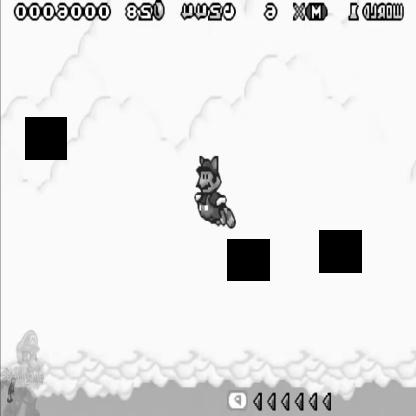Mario: (195, 150, 238, 230)
moneda: (152, 0, 166, 23)
